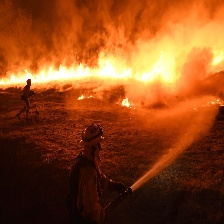fire: (1, 57, 218, 87), (75, 93, 99, 103), (120, 97, 136, 111), (206, 97, 220, 107)
smoke: (2, 2, 224, 60)
